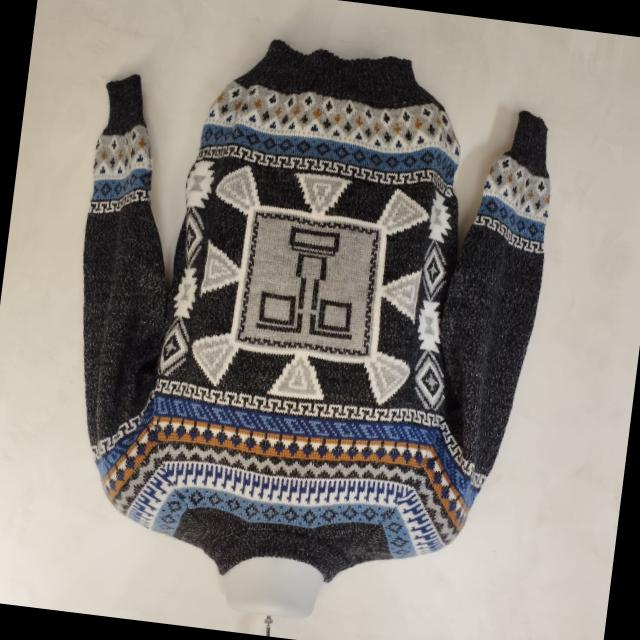Chompa: (39, 17, 567, 640)
